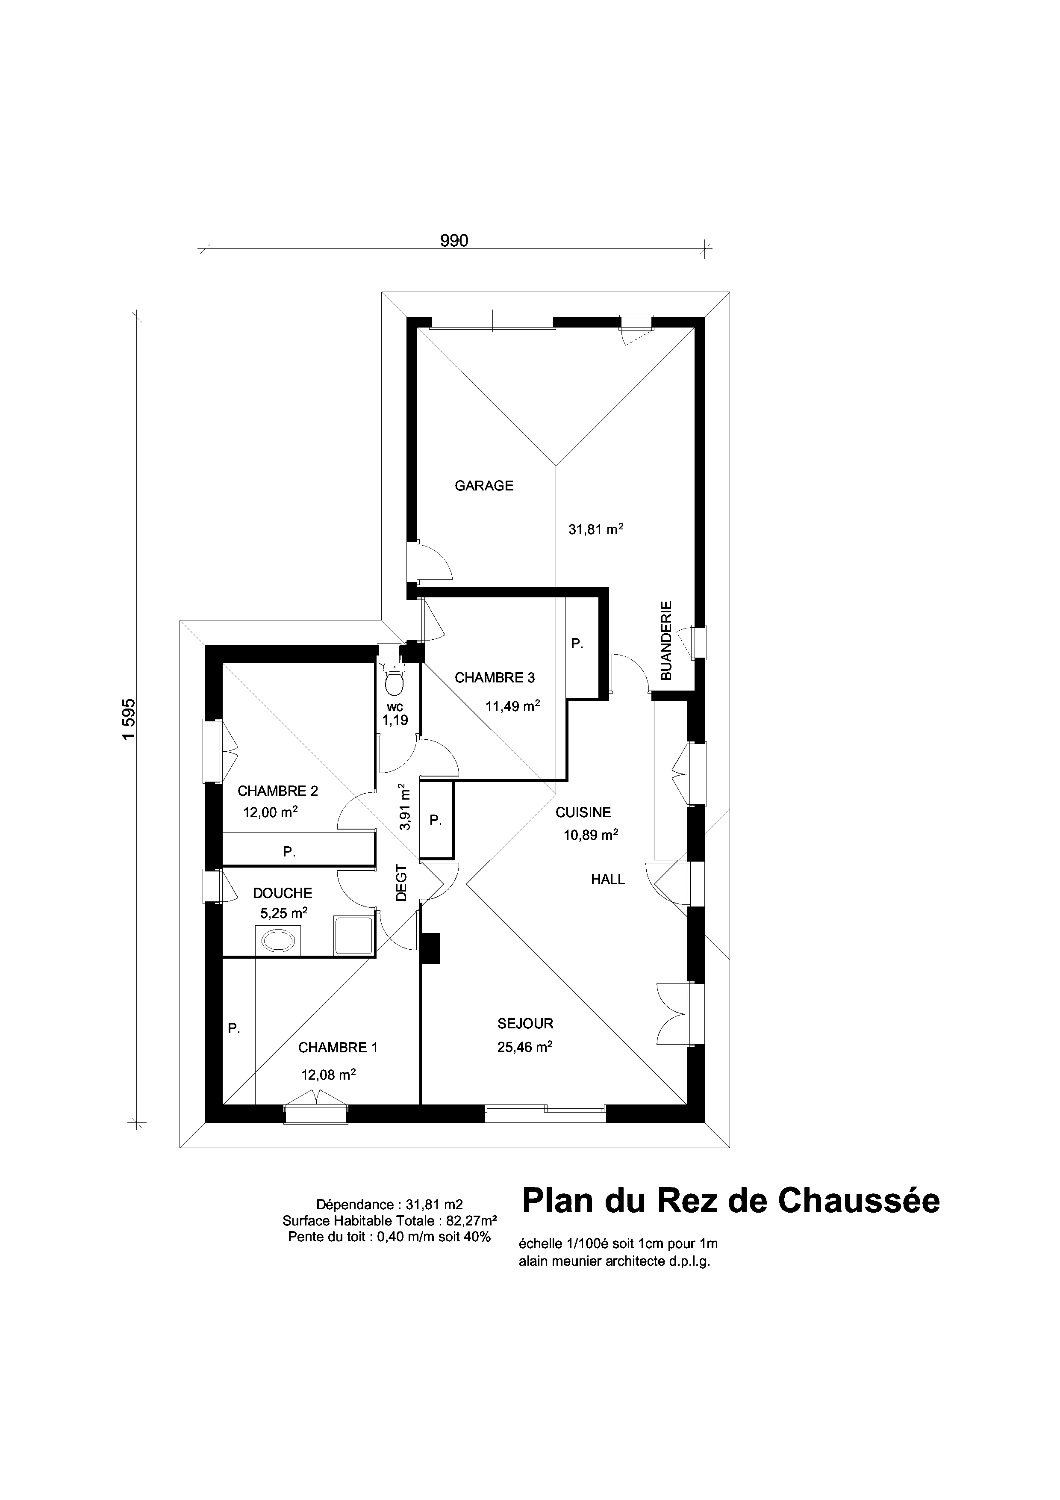ceramic sink: (255, 924, 302, 958)
door: (405, 538, 454, 586), (336, 788, 379, 833), (376, 733, 420, 774), (608, 654, 652, 694), (337, 867, 377, 911), (419, 860, 459, 903), (376, 911, 420, 950), (419, 739, 459, 778)
sliding door: (484, 1102, 607, 1124)
square bath tab: (333, 914, 375, 958)
toilet: (383, 664, 406, 697)
window: (654, 979, 706, 1048), (201, 717, 241, 786), (281, 1087, 350, 1126), (670, 740, 707, 808), (202, 868, 240, 905), (618, 314, 656, 347), (675, 625, 708, 662)
